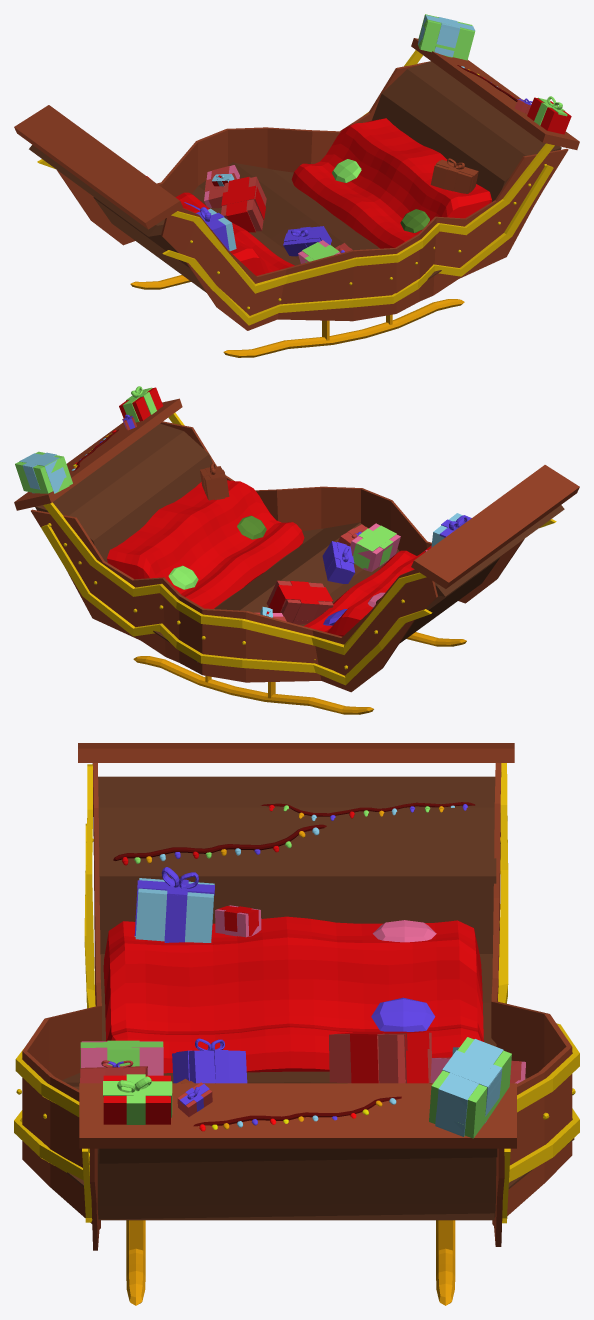
The model's file is FINISHSLADEAGAIN.fbx.
The picture shows the model from 3 angles, top to bottom: view 1: azimuth 30°, elevation 25°; view 2: azimuth 150°, elevation 25°; view 3: azimuth 270°, elevation 25°; orthographic projection. The views are drawn at different scales.
Visible parts, largest first — view 1: säte.001; view 2: säte.001; view 3: säte.001.
Part boxes in pixels (bbox=[...]): säte.001: bbox=[14, 14, 579, 357]; säte.001: bbox=[14, 386, 579, 714]; säte.001: bbox=[14, 743, 579, 1305].
Size of the model in its own units: 1179 by 513 by 778.
